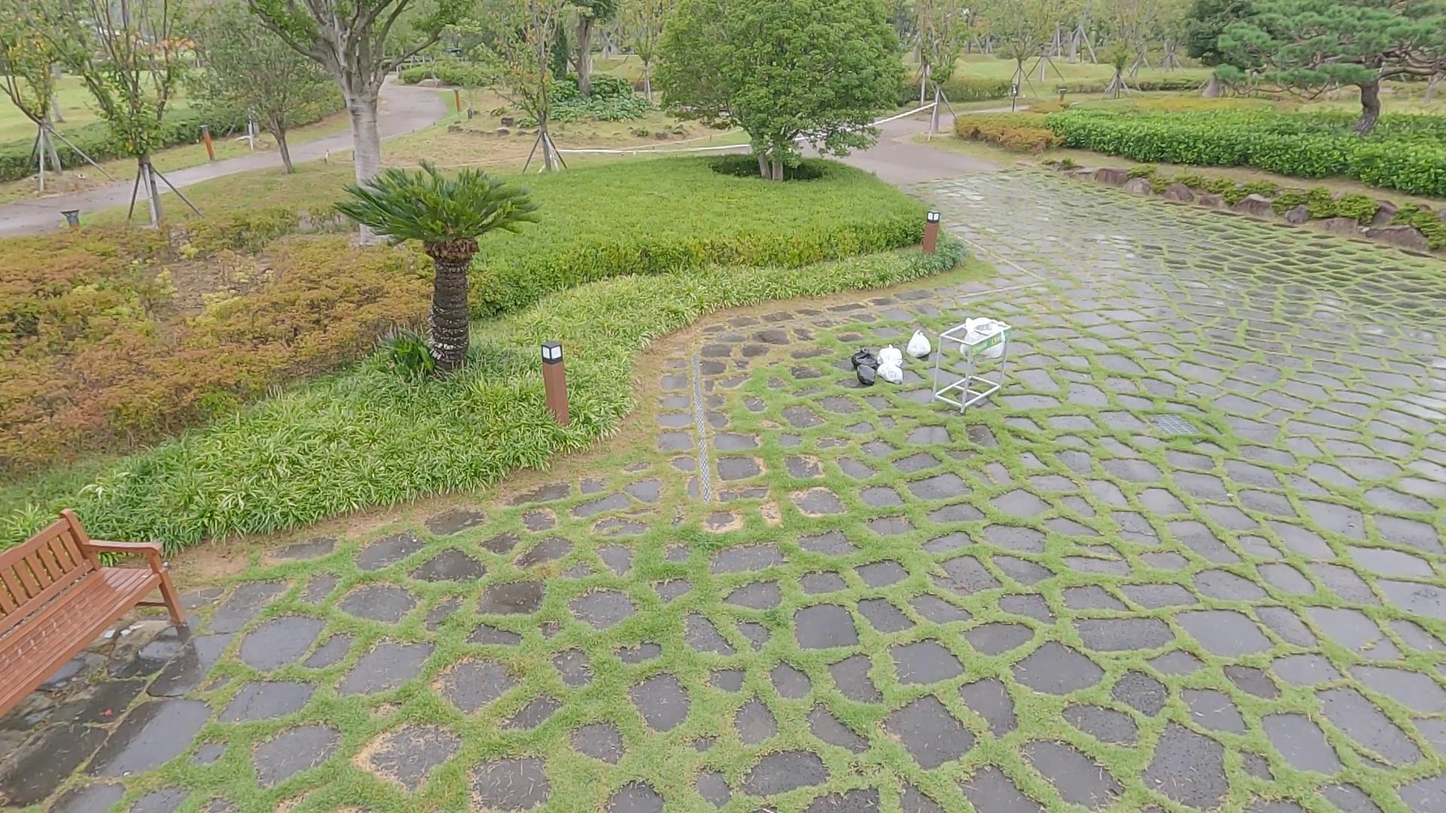trash: (907, 327, 931, 361), (875, 358, 904, 385), (850, 346, 877, 370), (877, 344, 902, 369), (856, 363, 877, 385)
